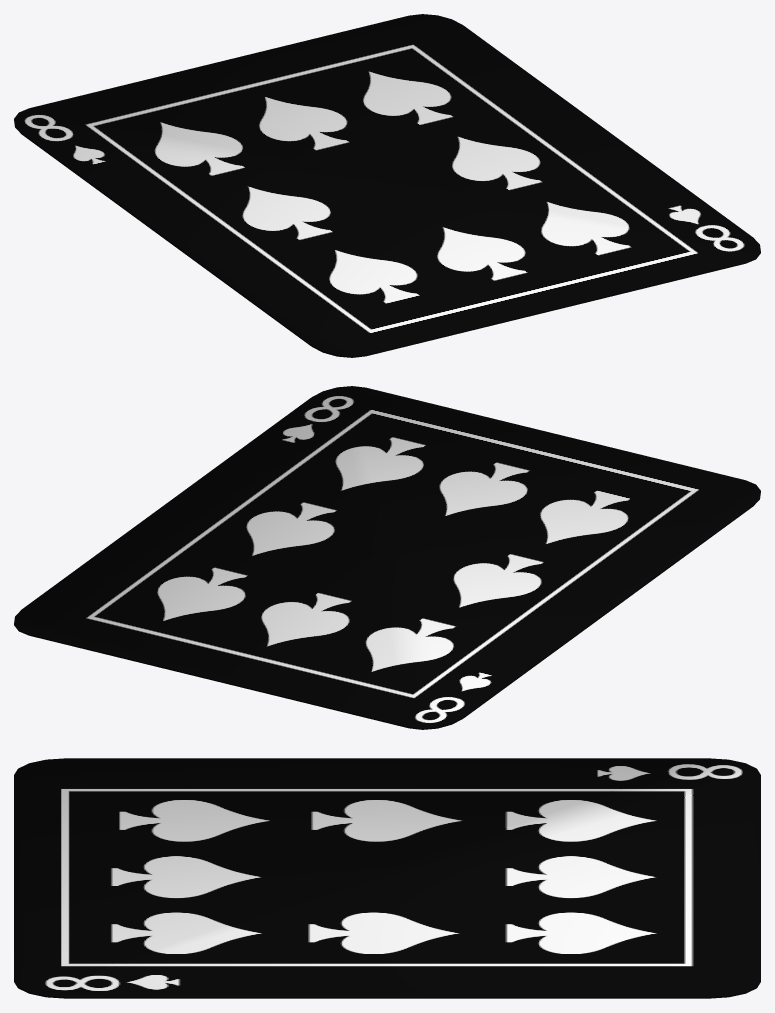
File: Huit_de_pique.gltf
The picture shows the model from 3 angles, top to bottom: view 1: azimuth 30°, elevation 25°; view 2: azimuth 150°, elevation 25°; view 3: azimuth 270°, elevation 25°; orthographic projection. The views are drawn at different scales.
Parts seen in each view (by area): view 1: Plane.001; view 2: Plane.001; view 3: Plane.001.
Part boxes in pixels (x1=…): Plane.001: x1=14, y1=14, x2=760, y2=357; Plane.001: x1=14, y1=386, x2=760, y2=729; Plane.001: x1=14, y1=758, x2=760, y2=998.
Bounding box in the file's own units: 3.59 × 0.01 × 4.74.
Materials: 2 (2 with a texture image).
